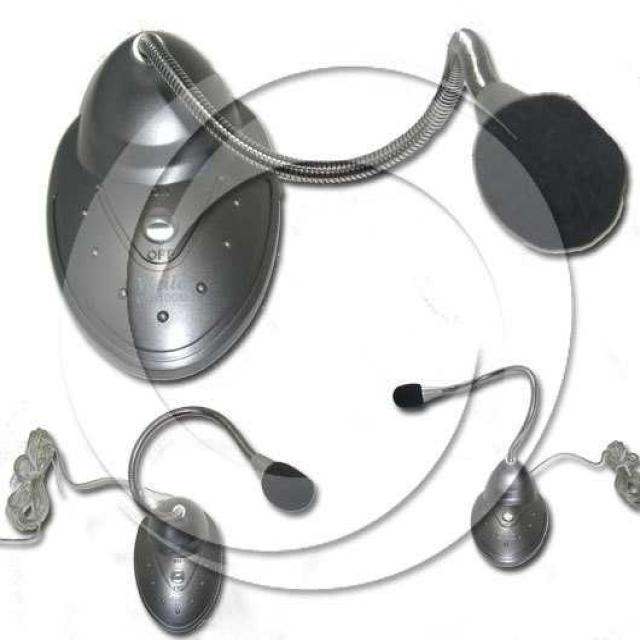microphone: (247, 455, 321, 519), (398, 383, 447, 407)
